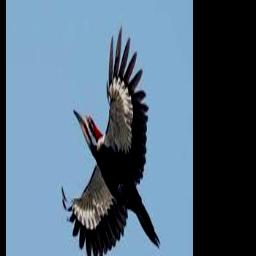Woodpecker: (61, 25, 160, 256)
